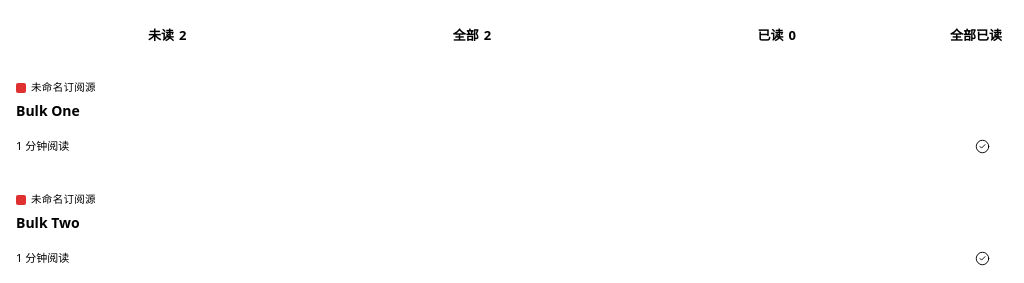
Test: can batch mark the current view read and undo it
Expected: the button "全部已读" is shown, [940,10,1012,60]
Click the button named "全部2" at (472, 35), box [320,13,624,57]
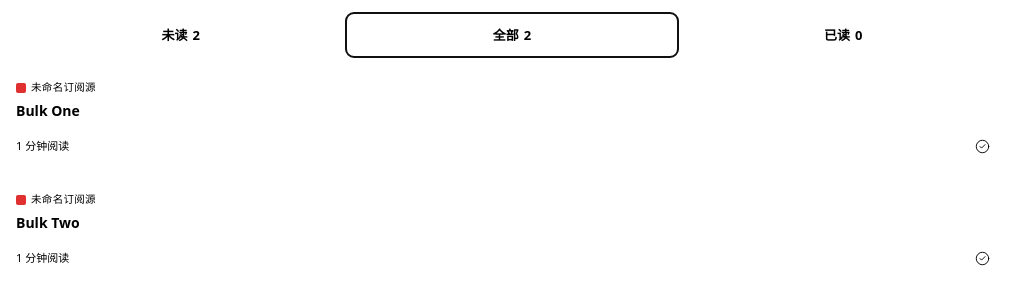
Expected: the button "全部已读" is gone
Click the button named "未读2" at (181, 35), box [15,13,346,57]
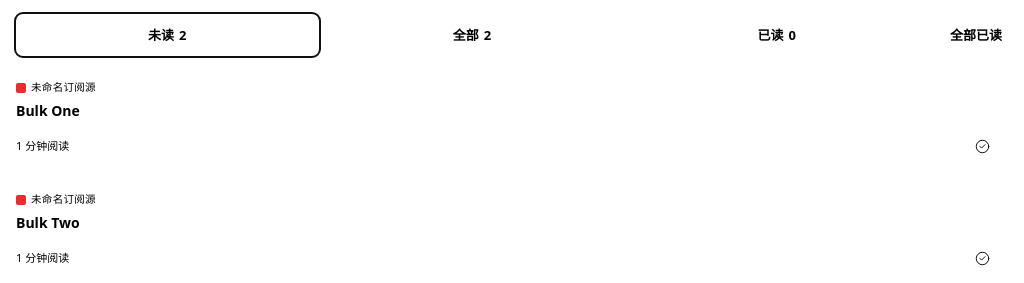
Expected: the button "全部已读" is shown
Click the button "全部已读" at (976, 35), box [940,10,1012,60]
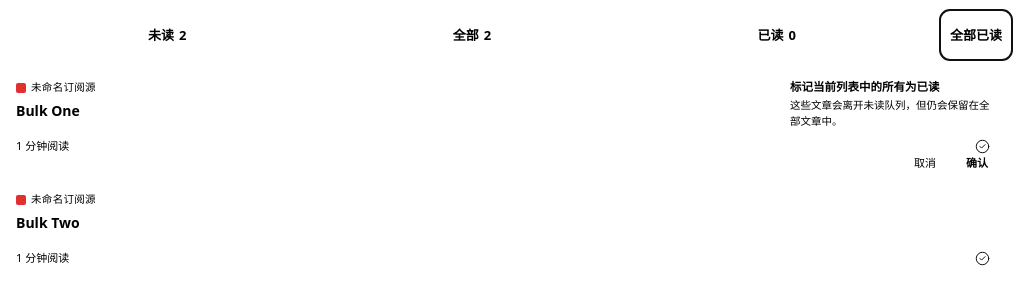
Expected: the text "标记当前列表中的所有为已读" is shown, [790,79,940,94]
Click the button with aria-label "确认标记全部已读" at (977, 163), box [954,141,1000,185]
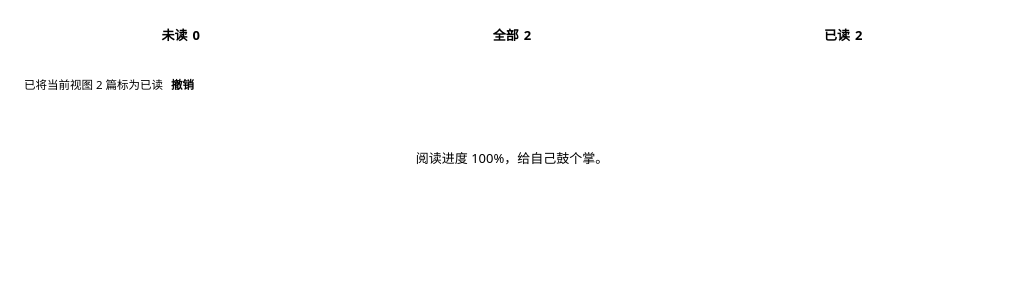
Expected: the text "已将当前视图 2 篇标为已读" is shown, [24,77,163,92]
Expected: the button "Bulk One" is gone
Expected: the button "Bulk Two" is gone
Click the button with aria-label "撤销批量标已读" at (183, 85), box [171,76,194,93]
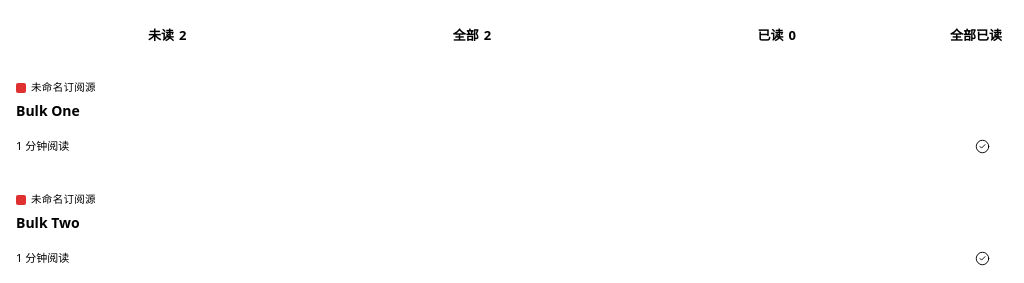
Expected: the heading "Bulk One" is shown, [16,101,80,120]
Expected: the heading "Bulk Two" is shown, [16,213,80,232]
